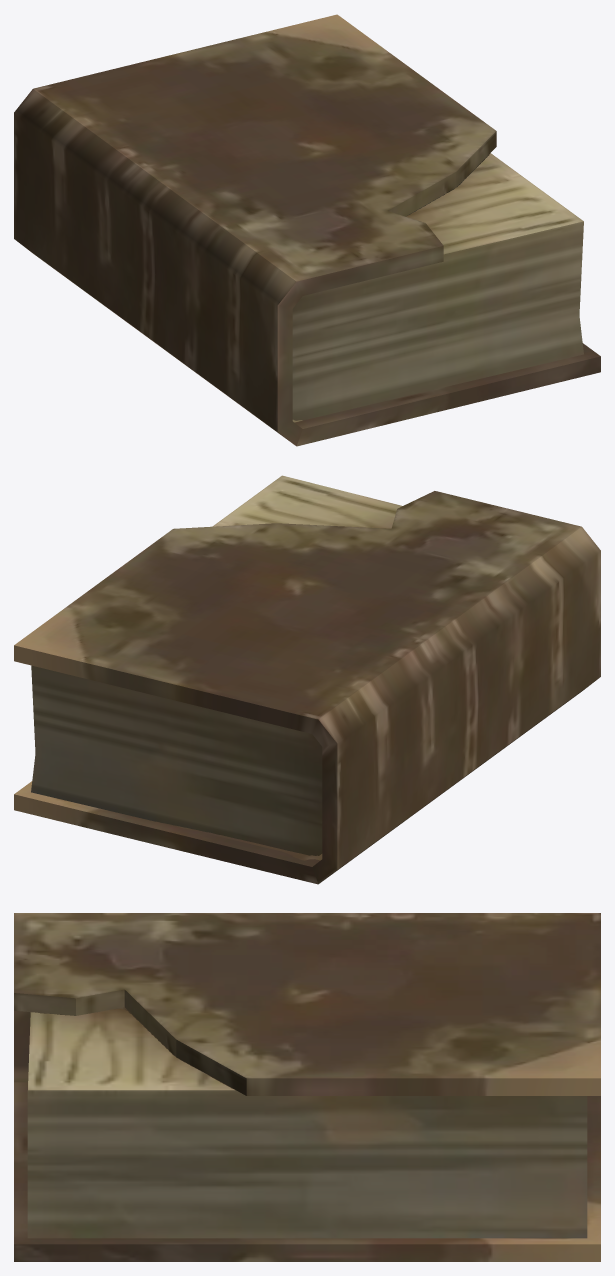
3 renders of one model, top to bottom at view 1: azimuth 30°, elevation 25°; view 2: azimuth 150°, elevation 25°; view 3: azimuth 270°, elevation 25°, orthographic. The views are drawn at different scales.
Visible parts, largest first — view 1: SM_DR_Book_08_LOD0; view 2: SM_DR_Book_08_LOD0; view 3: SM_DR_Book_08_LOD0.
Part boxes in pixels (bbox=[...]): SM_DR_Book_08_LOD0: bbox=[14, 14, 600, 446]; SM_DR_Book_08_LOD0: bbox=[14, 475, 600, 884]; SM_DR_Book_08_LOD0: bbox=[14, 913, 600, 1261].
Size of the model in its own units: 0.2709 by 0.132 by 0.3825.
Materials: 1 (1 with a texture image).
